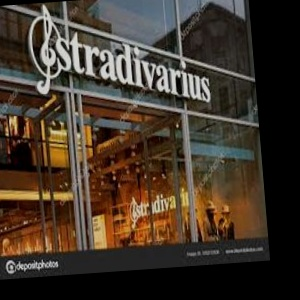stradivarius: (205, 54, 251, 60)
